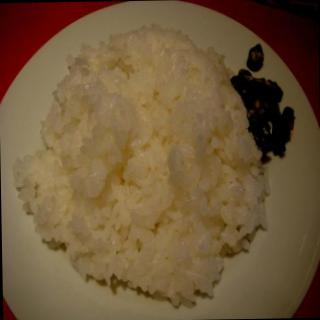Nasi: (10, 21, 275, 314)
